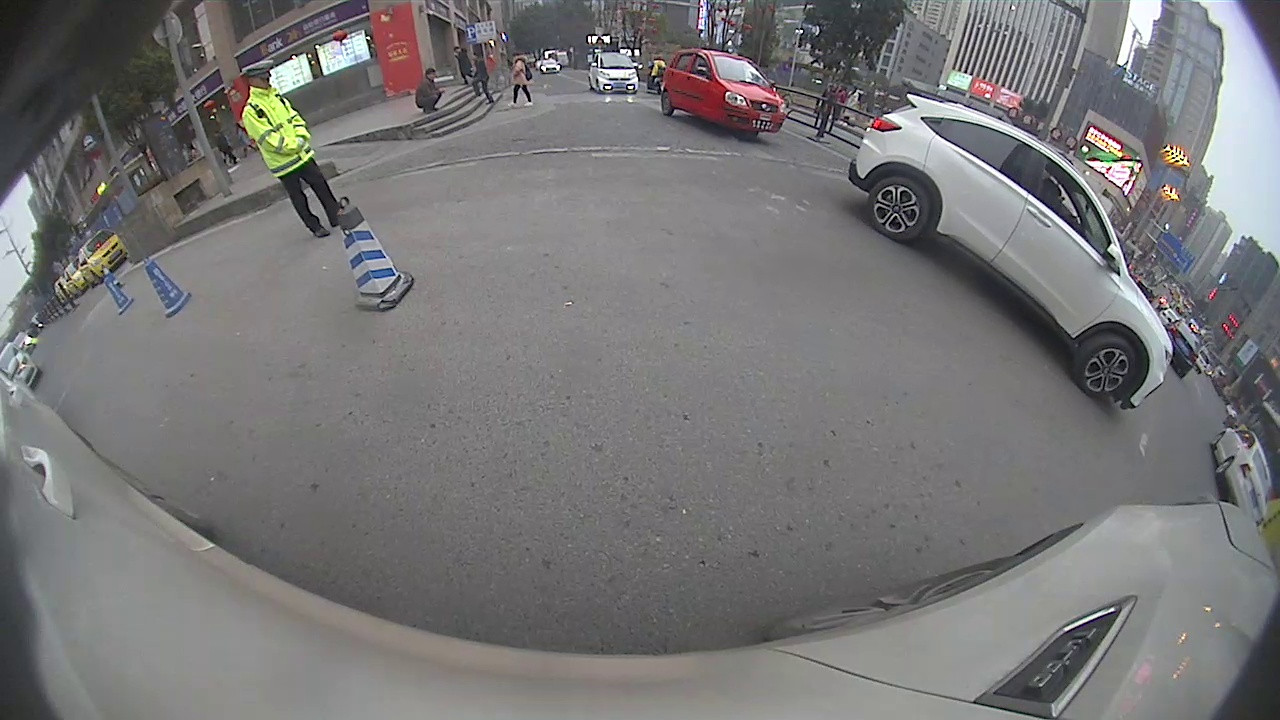car: (847, 90, 1174, 412), (660, 46, 787, 142), (1209, 427, 1269, 522), (589, 52, 640, 97)
front: (1073, 333, 1141, 401)
person: (241, 60, 329, 246), (507, 49, 536, 108), (470, 51, 494, 112), (414, 68, 444, 112), (458, 47, 476, 87)
rear: (867, 173, 930, 242), (658, 89, 674, 115), (1212, 459, 1234, 475)
